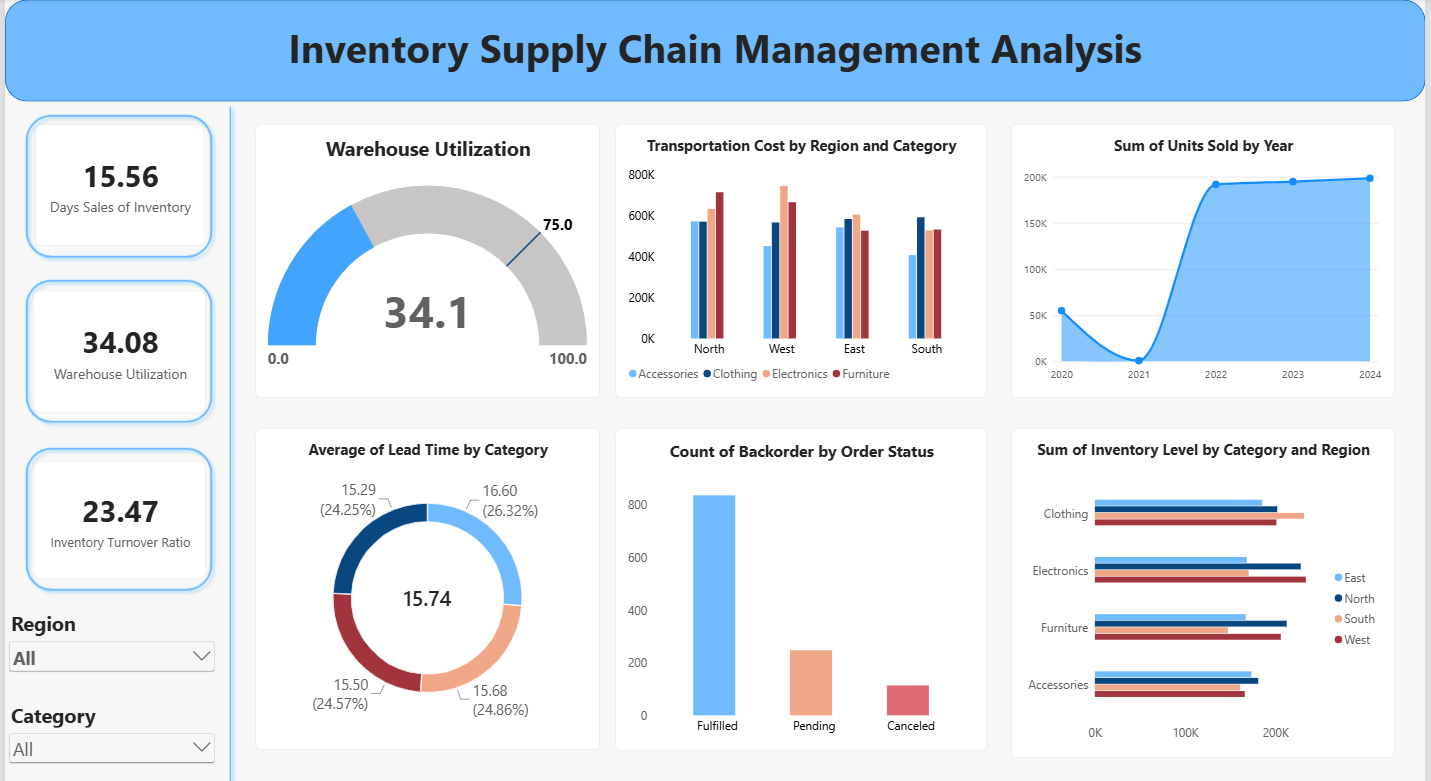

The dashboard page shown, as its layout file describes it:
{"tool":"powerbi","page":{"name":"Page 1","canvas":[1920,1080],"ordinal":0},"visuals":[{"type":"cardVisual","fields":{"Data":["Inventory Supply Chain Management Analysis.Inventory Turnover Ratio"]},"box":[38.6,626.9,233.9,159],"z":0},{"type":"cardVisual","fields":{"Data":["Inventory Supply Chain Management Analysis.Days Sales of Inventory"]},"box":[40.9,170.3,229.4,165.8],"z":1000},{"type":"slicer","fields":{"Values":["Inventory Supply Chain Management Analysis.Region"]},"box":[0,826.8,288.5,95.4],"z":2000},{"type":"slicer","fields":{"Values":["Inventory Supply Chain Management Analysis.Category"]},"box":[0,951.7,288.5,90.9],"z":3000},{"type":"gauge","fields":{"Y":["Inventory Supply Chain Management Analysis.Warehouse Utilization"]},"box":[338.4,170.3,465.6,370.2],"z":4000},{"type":"clusteredColumnChart","title":"Transportation Cost by Region and Category","fields":{"Y":["Sum(Inventory Supply Chain Management Analysis.Transportation Cost)"],"Series":["Inventory Supply Chain Management Analysis.Category"],"Category":["Inventory Supply Chain Management Analysis.Region"]},"box":[824.5,170.3,502,370.2],"z":5000},{"type":"lineChart","fields":{"Y":["Sum(Inventory Supply Chain Management Analysis.Units Sold)"],"Category":["Inventory Supply Chain Management Analysis.Date.Variation.Date Hierarchy.Year"]},"box":[1360.5,170.3,517.9,370.2],"z":6000},{"type":"donutChart","fields":{"Y":["Avg(Inventory Supply Chain Management Analysis.Lead Time)"],"Category":["Inventory Supply Chain Management Analysis.Category"]},"box":[338.4,581.5,465.6,433.8],"z":7000},{"type":"columnChart","fields":{"Y":["CountNonNull(Inventory Supply Chain Management Analysis.Backorder)"],"Category":["Inventory Supply Chain Management Analysis.Order Status"]},"box":[824.5,581.5,502,436.1],"z":8000},{"type":"clusteredBarChart","fields":{"Category":["Inventory Supply Chain Management Analysis.Category"],"Y":["Sum(Inventory Supply Chain Management Analysis.Inventory Level)"],"Series":["Inventory Supply Chain Management Analysis.Region"]},"box":[1360.5,581.5,517.9,445.2],"z":9000},{"type":"shape","box":[0,2,1920.1,137.9],"z":10000},{"type":"textbox","box":[927,445,150,189],"z":11000},{"type":"textbox","box":[927,445,150,189],"z":12000},{"type":"textbox","box":[0,30.4,1920.1,73],"z":13000},{"type":"shape","box":[272.6,138.5,65.9,940.3],"z":14000},{"type":"shape","box":[20.4,149.9,267.6,208.8],"z":15000},{"type":"shape","box":[20.3,600.2,267.6,208.8],"z":16000},{"type":"shape","box":[20.3,373.1,267.6,208.8],"z":17000},{"type":"cardVisual","fields":{"Data":["Inventory Supply Chain Management Analysis.Warehouse Utilization"]},"box":[38.6,395.2,233.9,165.8],"z":18000}]}

Visuals, with their boxes on the page's 1920x1080 design canvas (x1, y1, x2, y2). These are canvas units, not pixel positions in the 1431x781 screenshot, which may show the page scaled, cropped or inside an application window:
cardVisual - Inventory Supply Chain Management Analysis.Inventory Turnover Ratio: 39:627:272:786
cardVisual - Inventory Supply Chain Management Analysis.Days Sales of Inventory: 41:170:270:336
slicer - Inventory Supply Chain Management Analysis.Region: 0:827:288:922
slicer - Inventory Supply Chain Management Analysis.Category: 0:952:288:1043
gauge - Inventory Supply Chain Management Analysis.Warehouse Utilization: 338:170:804:540
"Transportation Cost by Region and Category" clusteredColumnChart: 824:170:1326:540
lineChart - Sum(Inventory Supply Chain Management Analysis.Units Sold) x Inventory Supply Chain Management Analysis.Date.Variation.Date Hierarchy.Year: 1360:170:1878:540
donutChart - Avg(Inventory Supply Chain Management Analysis.Lead Time) x Inventory Supply Chain Management Analysis.Category: 338:582:804:1015
columnChart - CountNonNull(Inventory Supply Chain Management Analysis.Backorder) x Inventory Supply Chain Management Analysis.Order Status: 824:582:1326:1018
clusteredBarChart - Inventory Supply Chain Management Analysis.Category x Sum(Inventory Supply Chain Management Analysis.Inventory Level): 1360:582:1878:1027
shape: 0:2:1920:140
textbox: 927:445:1077:634
textbox: 927:445:1077:634
textbox: 0:30:1920:103
shape: 273:138:338:1079
shape: 20:150:288:359
shape: 20:600:288:809
shape: 20:373:288:582
cardVisual - Inventory Supply Chain Management Analysis.Warehouse Utilization: 39:395:272:561
